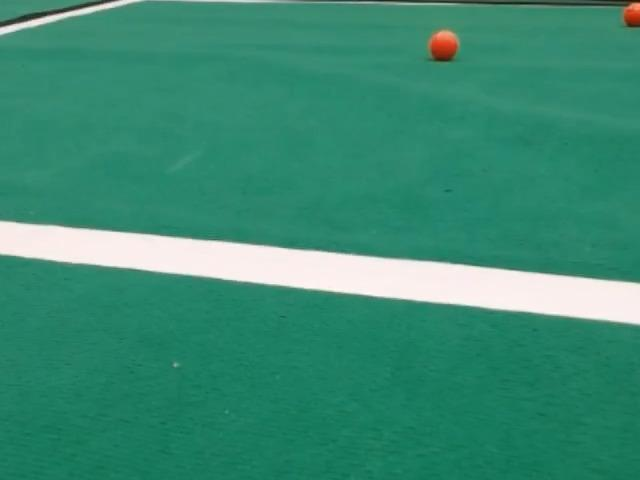Ball: (428, 30, 458, 61)
